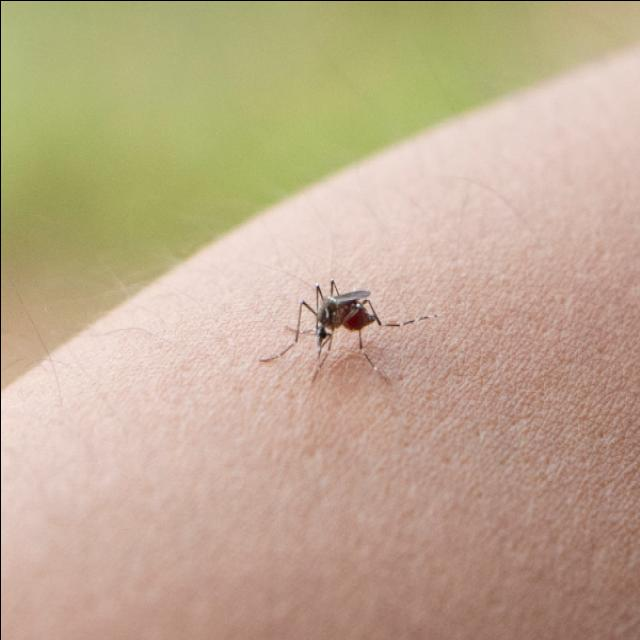Mosquito: (270, 242, 400, 396)
